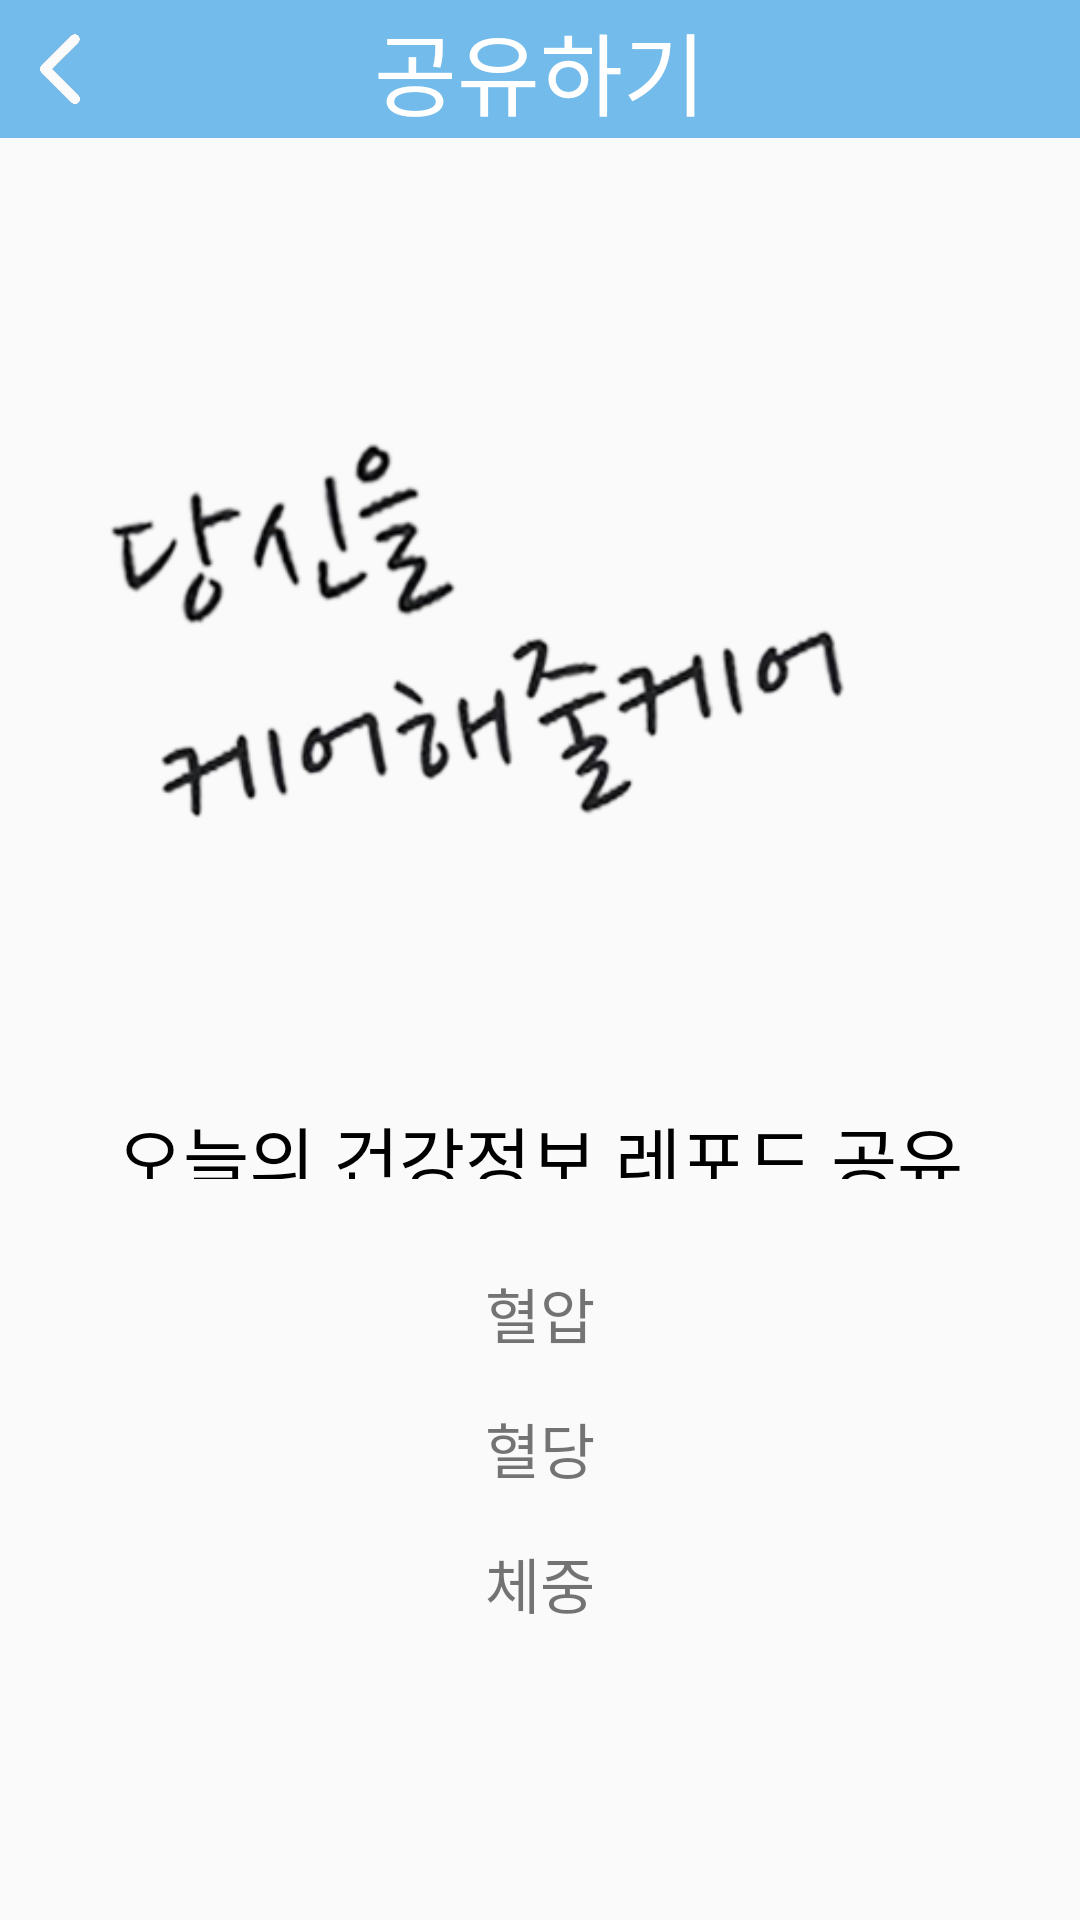

Named icons in this screenshot (1080*1920) and their centers, [x,y]:
previous: [60,69]
